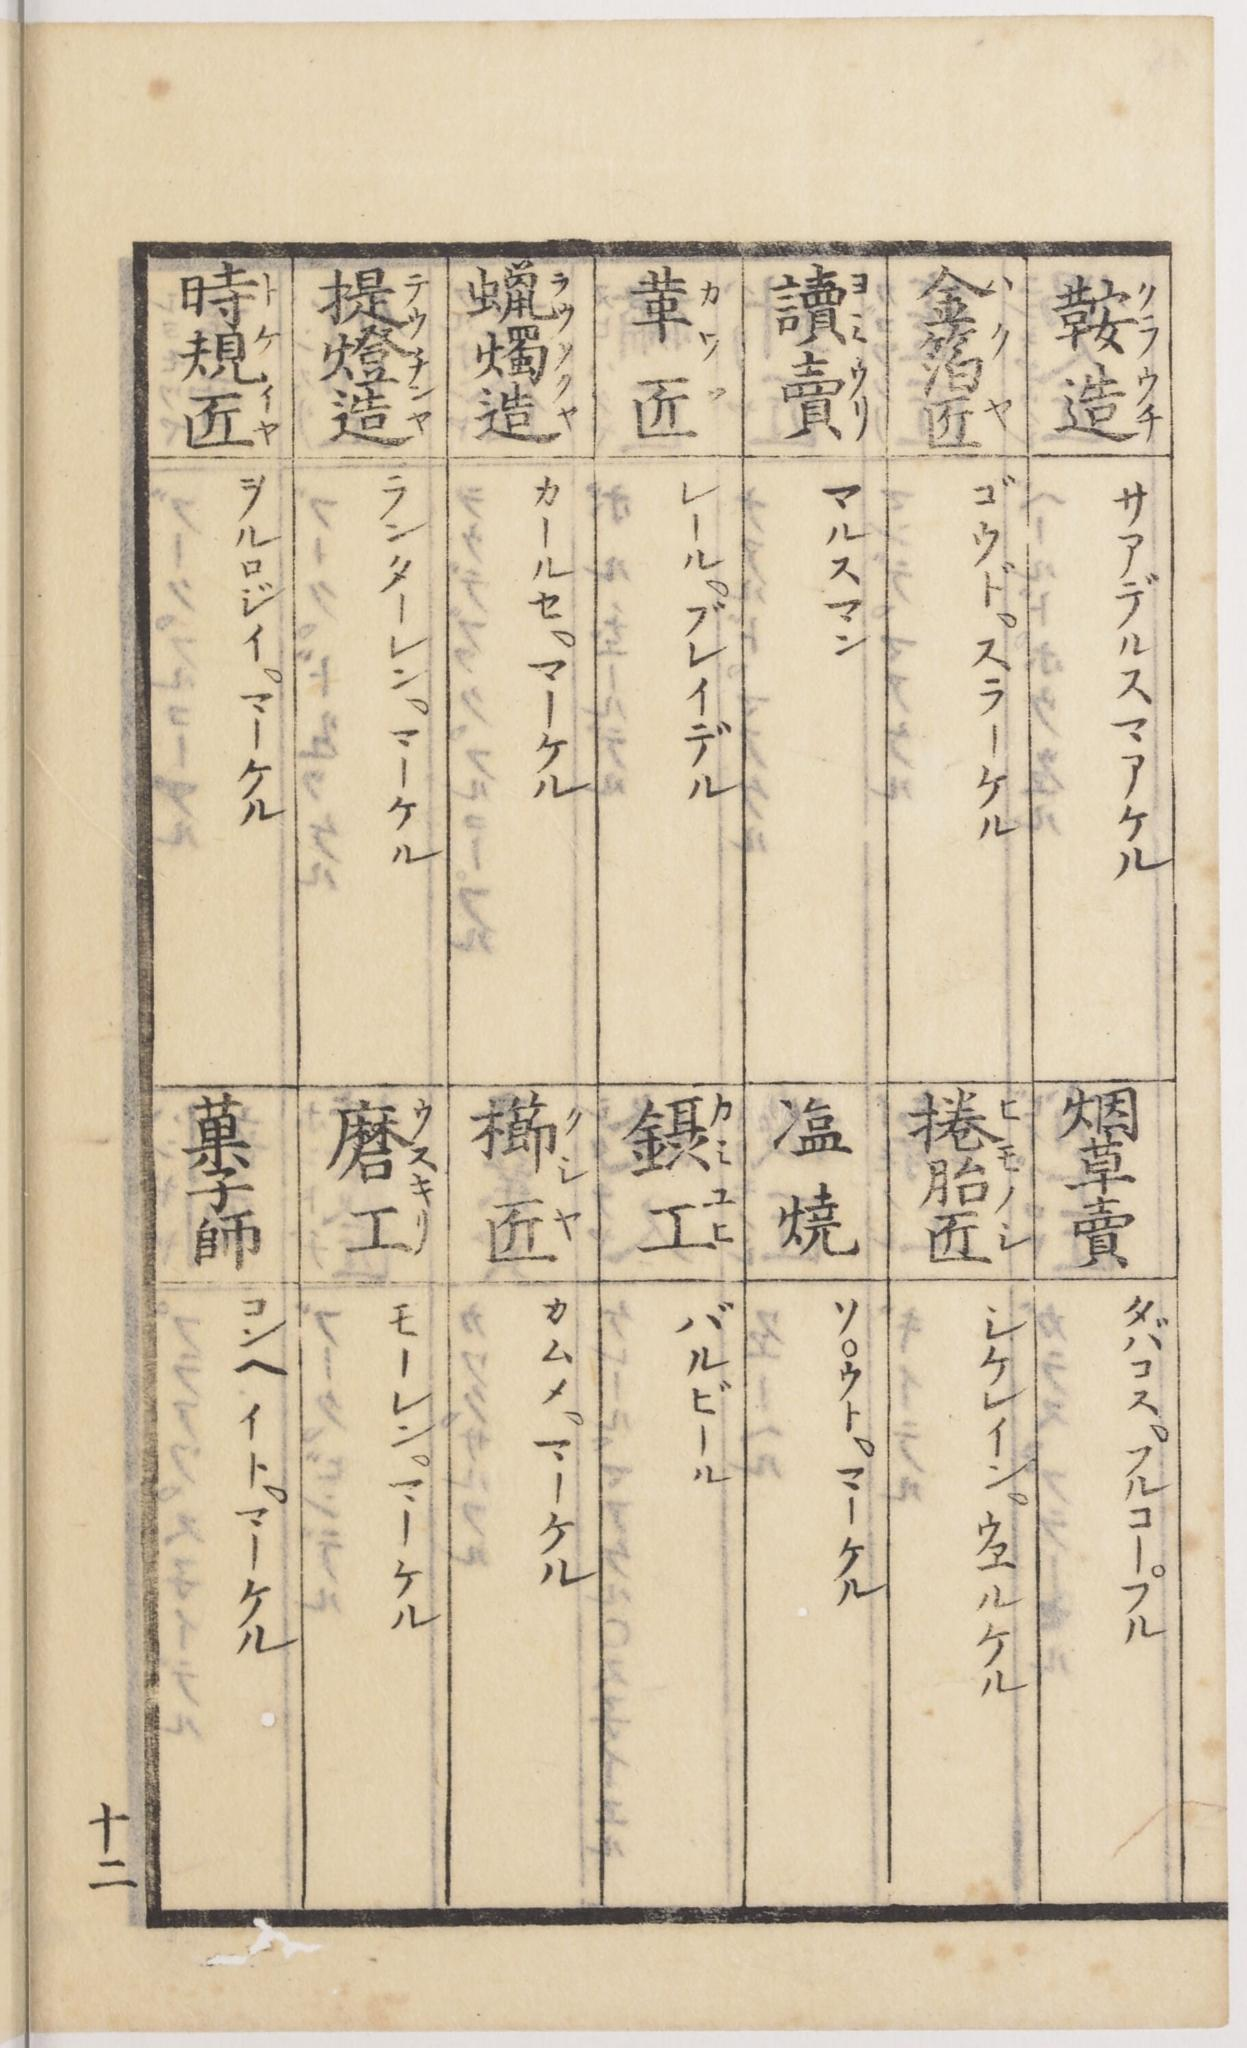MainZone-Character: (470, 1091, 594, 1188), (615, 1084, 742, 1175), (318, 1175, 442, 1264), (767, 353, 880, 451), (763, 260, 885, 345), (1051, 271, 1165, 357), (626, 268, 733, 360), (631, 1175, 745, 1260), (1058, 361, 1168, 448), (470, 1197, 588, 1276), (460, 257, 584, 332), (337, 1100, 449, 1179), (463, 323, 588, 391), (316, 380, 441, 448), (909, 1144, 1027, 1213), (626, 372, 733, 445), (909, 322, 1025, 389), (463, 391, 583, 453), (315, 323, 441, 380), (316, 265, 429, 328), (176, 385, 285, 449), (922, 392, 1029, 456), (913, 1091, 1027, 1151), (173, 259, 285, 319), (918, 1211, 1033, 1268), (179, 325, 287, 382), (916, 271, 1020, 323)
MainZone-Ruby: (552, 1103, 590, 1185), (843, 351, 875, 443), (703, 1181, 742, 1255), (402, 1175, 438, 1258), (694, 269, 726, 354), (991, 1140, 1026, 1216), (845, 268, 875, 350), (1133, 366, 1165, 439), (714, 1084, 741, 1173), (408, 1102, 441, 1169), (1133, 279, 1161, 351), (552, 265, 583, 329), (255, 382, 284, 448), (992, 1219, 1038, 1260), (400, 265, 429, 326), (984, 268, 1025, 307), (546, 1204, 584, 1245), (405, 385, 436, 433), (552, 336, 581, 386), (253, 323, 290, 360), (988, 395, 1022, 434), (259, 265, 284, 310), (984, 325, 1014, 360), (553, 401, 583, 436), (405, 338, 426, 383), (703, 377, 732, 408), (997, 1093, 1022, 1123)
